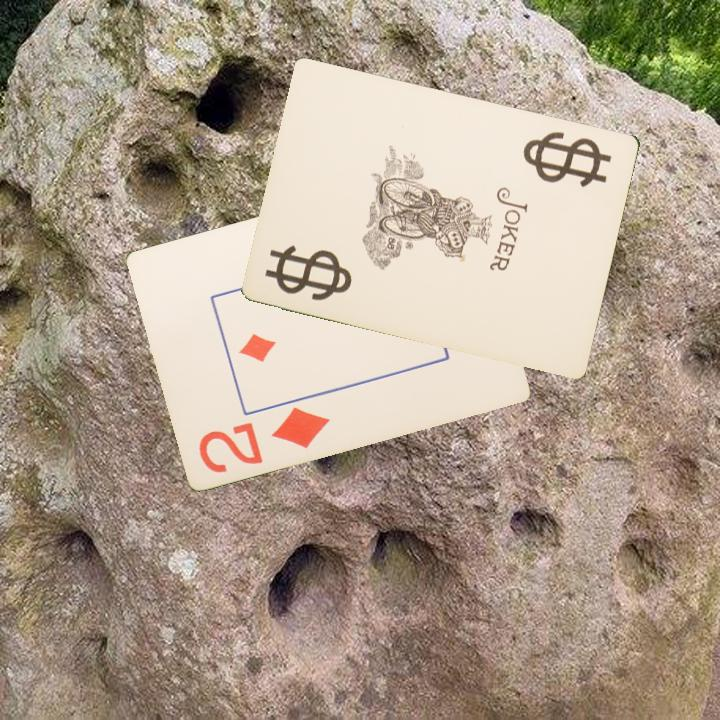2d: (195, 402, 333, 475)
JK: (262, 245, 356, 304), (526, 139, 599, 176)
